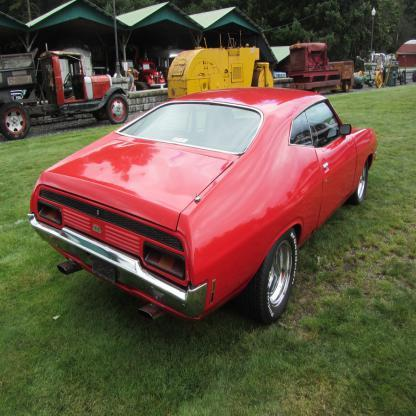car: (34, 78, 352, 328)
